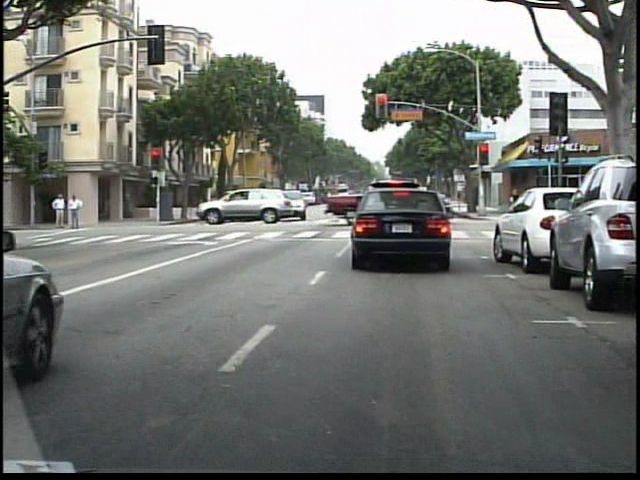person: (47, 189, 65, 232), (66, 191, 82, 231)
